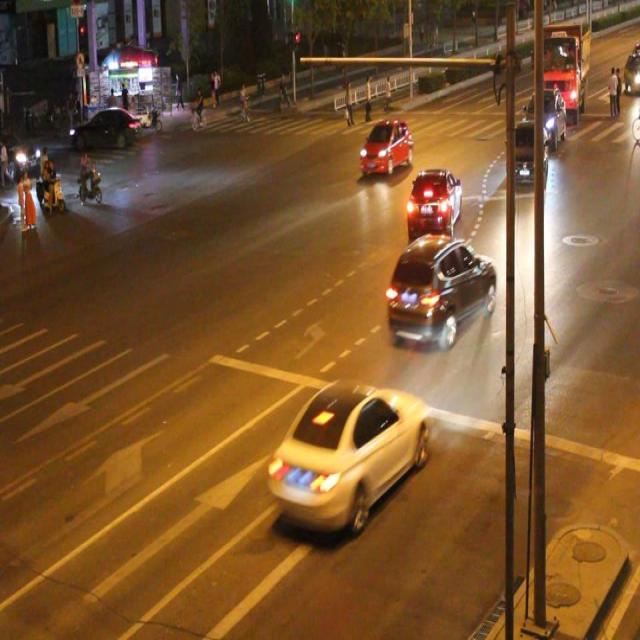car: (267, 379, 428, 535), (386, 234, 493, 344), (405, 163, 462, 238), (359, 117, 412, 173), (508, 119, 546, 184)
